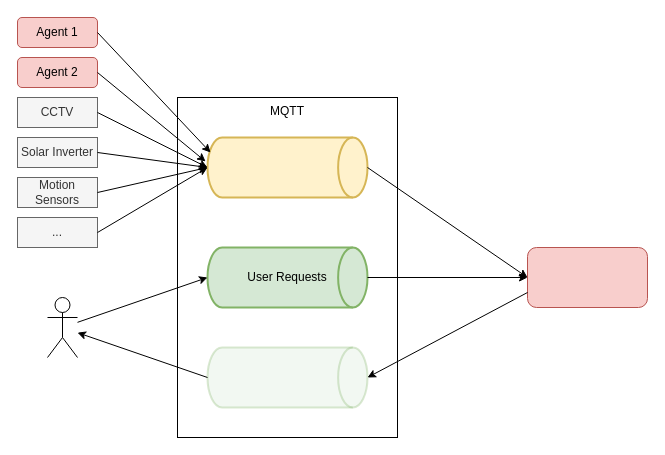
The diagram is 665 pixels wide and 455 high, and some of its shapes have lost their labels. Each missing label, with the box of its shape:
Agent 3: (526, 246, 648, 308)
Agent Responses: (206, 346, 368, 408)
System Events: (206, 136, 368, 198)
User: (46, 296, 78, 358)
